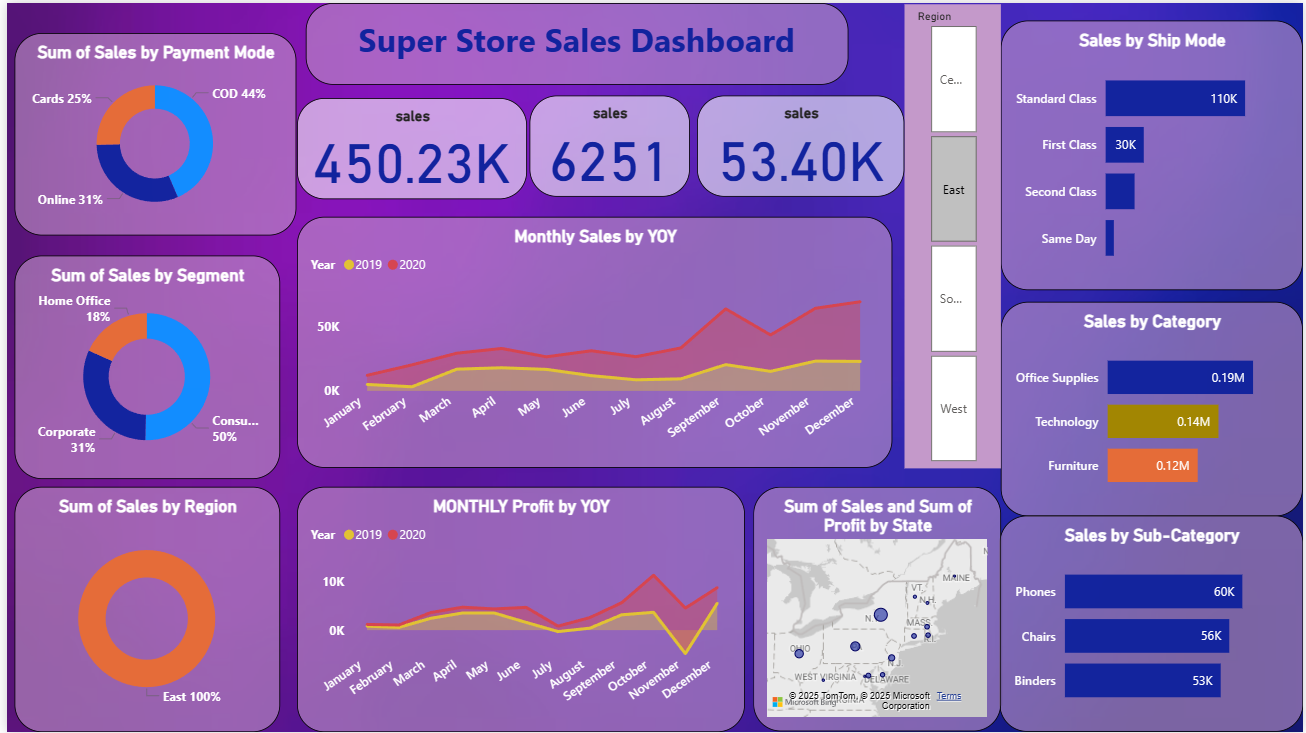

Layout of this report page (visuals, bound fields, positions):
{"tool":"powerbi","page":{"name":"Page 1","canvas":[1280,720],"ordinal":0},"visuals":[{"type":"clusteredBarChart","title":" Sales by Category","fields":{"Category":["SuperStore_Sales_Dataset.Category"],"Y":["Sum(SuperStore_Sales_Dataset.Sales)"]},"box":[981.7,295,298.3,211.7],"z":0},{"type":"clusteredBarChart","title":" Sales by Sub-Category","fields":{"Category":["SuperStore_Sales_Dataset.Sub-Category"],"Y":["Sum(SuperStore_Sales_Dataset.Sales)"]},"box":[980,506.7,300,213.3],"z":1000},{"type":"clusteredBarChart","title":" Sales by Ship Mode","fields":{"Category":["SuperStore_Sales_Dataset.Ship Mode"],"Y":["Sum(SuperStore_Sales_Dataset.Sales)"]},"box":[981.7,16.7,298.3,266.7],"z":2000},{"type":"stackedAreaChart","title":" Monthly Sales by YOY","fields":{"Category":["SuperStore_Sales_Dataset.Order Date.Variation.Date Hierarchy.Month","SuperStore_Sales_Dataset.Order Date.Variation.Date Hierarchy.Day"],"Y":["Sum(SuperStore_Sales_Dataset.Sales)"],"Series":["SuperStore_Sales_Dataset.Order Date.Variation.Date Hierarchy.Year"]},"box":[286.7,211.7,588.3,248.3],"z":3000},{"type":"stackedAreaChart","title":"MONTHLY Profit by YOY","fields":{"Category":["SuperStore_Sales_Dataset.Order Date.Variation.Date Hierarchy.Month","SuperStore_Sales_Dataset.Order Date.Variation.Date Hierarchy.Day"],"Series":["SuperStore_Sales_Dataset.Order Date.Variation.Date Hierarchy.Year"],"Y":["Sum(SuperStore_Sales_Dataset.Profit)"]},"box":[287,478,442,242],"z":4000},{"type":"map","fields":{"Category":["SuperStore_Sales_Dataset.State"],"Size":["Sum(SuperStore_Sales_Dataset.Sales)"]},"box":[736.7,478.3,245,241.7],"z":5000},{"type":"donutChart","fields":{"Category":["SuperStore_Sales_Dataset.Payment Mode"],"Y":["Sum(SuperStore_Sales_Dataset.Sales)"]},"box":[8,30,278,200],"z":6000},{"type":"donutChart","fields":{"Category":["SuperStore_Sales_Dataset.Segment"],"Y":["Sum(SuperStore_Sales_Dataset.Sales)"]},"box":[8,249,262,221],"z":7000},{"type":"donutChart","fields":{"Category":["SuperStore_Sales_Dataset.Region"],"Y":["Sum(SuperStore_Sales_Dataset.Sales)"]},"box":[8,478,262,242],"z":8000},{"type":"slicer","fields":{"Values":["SuperStore_Sales_Dataset.Region"]},"box":[886.7,1.7,95,458.3],"z":9000},{"type":"textbox","box":[295,0,536,81],"z":10000},{"type":"card","title":"sales","fields":{"Values":["Sum(SuperStore_Sales_Dataset.Sales)"]},"box":[287,94,227,100],"z":11000},{"type":"card","title":"sales","fields":{"Values":["Sum(SuperStore_Sales_Dataset.Quantity)"]},"box":[516,91,158,100],"z":12000},{"type":"card","title":"sales","fields":{"Values":["Sum(SuperStore_Sales_Dataset.Profit)"]},"box":[681,91,205,100],"z":13000}]}

Visuals, with their boxes in screenshot pixels (x1, y1, x2, y2), scaled from the page's 1280x720 canvas onto the 1306x733 screenshot:
" Sales by Category" clusteredBarChart: [1002, 300, 1305, 516]
" Sales by Sub-Category" clusteredBarChart: [1000, 516, 1305, 732]
" Sales by Ship Mode" clusteredBarChart: [1002, 17, 1305, 289]
" Monthly Sales by YOY" stackedAreaChart: [293, 216, 893, 468]
"MONTHLY Profit by YOY" stackedAreaChart: [293, 487, 744, 732]
map - SuperStore_Sales_Dataset.State x Sum(SuperStore_Sales_Dataset.Sales): [752, 487, 1002, 732]
donutChart - SuperStore_Sales_Dataset.Payment Mode x Sum(SuperStore_Sales_Dataset.Sales): [8, 31, 292, 234]
donutChart - SuperStore_Sales_Dataset.Segment x Sum(SuperStore_Sales_Dataset.Sales): [8, 253, 275, 478]
donutChart - SuperStore_Sales_Dataset.Region x Sum(SuperStore_Sales_Dataset.Sales): [8, 487, 275, 732]
slicer - SuperStore_Sales_Dataset.Region: [905, 2, 1002, 468]
textbox: [301, 0, 848, 82]
"sales" card: [293, 96, 524, 198]
"sales" card: [526, 93, 688, 194]
"sales" card: [695, 93, 904, 194]
